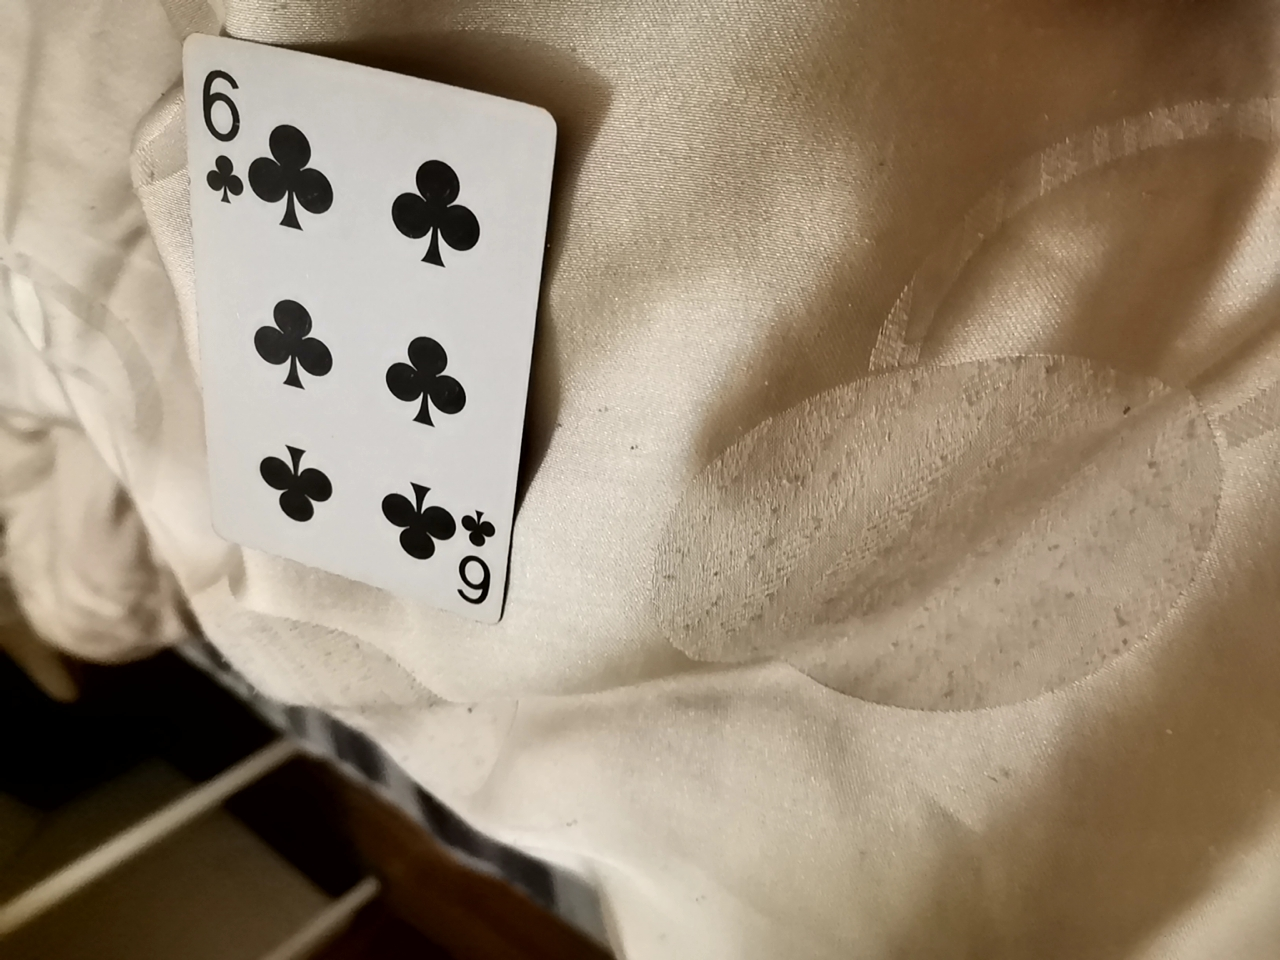mh 6: (144, 56, 539, 634)
